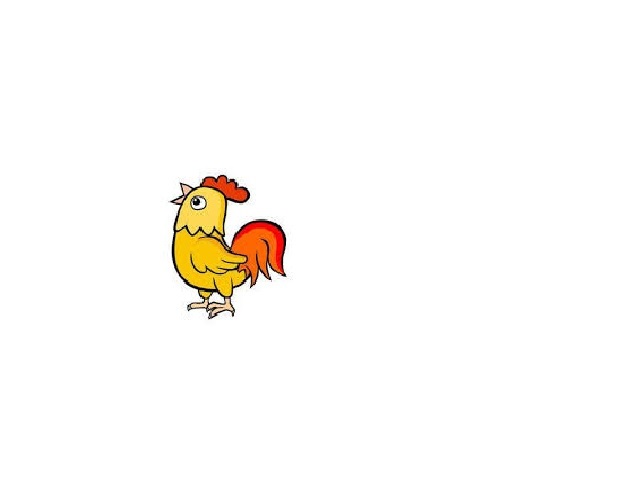crown: (205, 176, 251, 200)
eyes: (190, 195, 210, 216)
feet: (183, 300, 241, 321)
tail: (229, 220, 289, 282)
